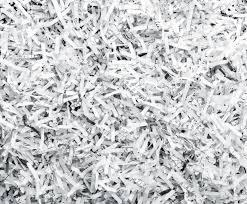Paper shavings: (2, 5, 247, 204)
